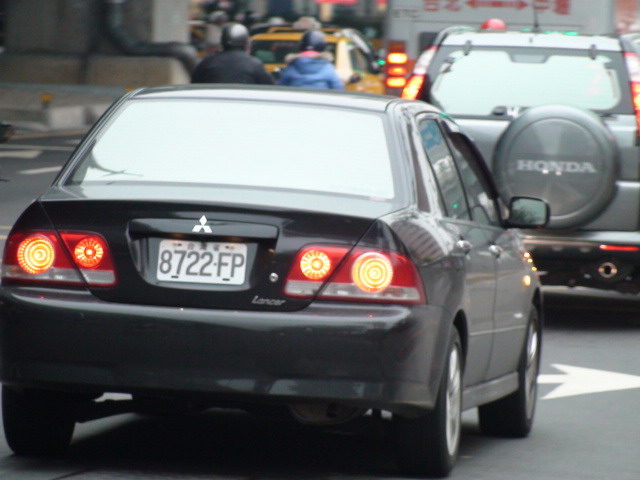plate: (153, 236, 250, 287)
